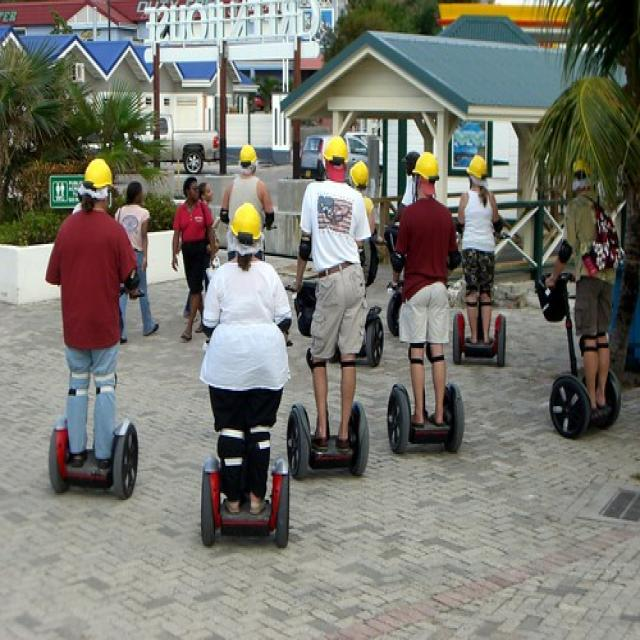Reflective-Jacket: (58, 210, 129, 350), (396, 198, 456, 300), (228, 192, 265, 240)
Safety-Helmet: (80, 156, 116, 197), (229, 200, 265, 239), (411, 148, 441, 181), (322, 135, 349, 165), (466, 152, 491, 181), (349, 160, 370, 190), (238, 142, 259, 167)
